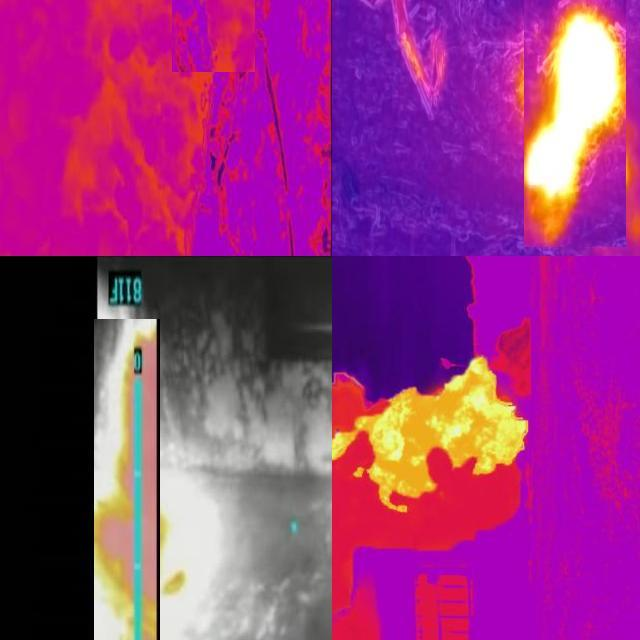fire: (333, 354, 533, 520), (94, 319, 160, 640), (524, 1, 625, 192)
